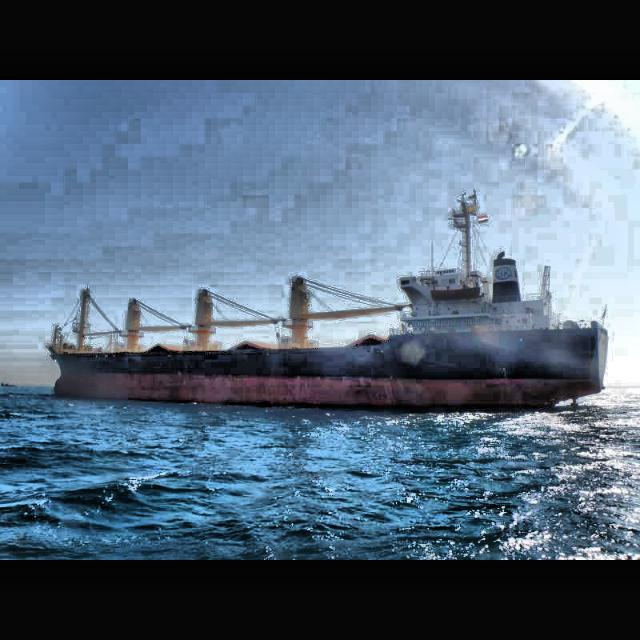bulk_carrier: (46, 188, 610, 414)
